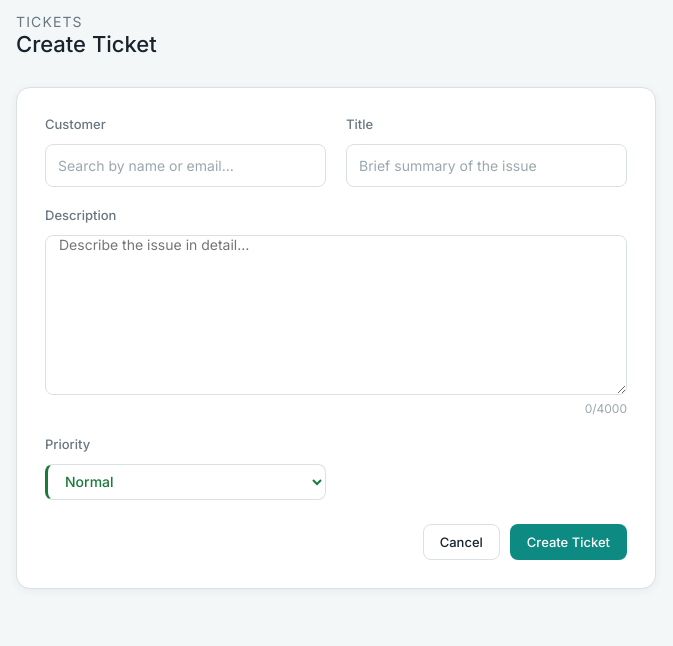
Scenario: TicketCreateView › shows the customer_not_found message on a 400 and stays on the form
Type "Alice Johnson" into the field with id "ticket-customer".
click(186, 165); type("Alice Johnson")  # box [45,144,326,187]
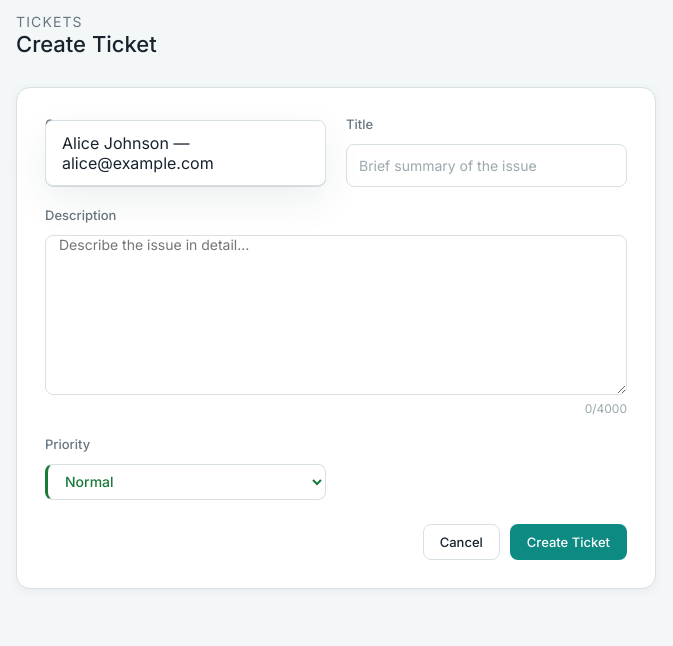
Click the list item "Alice Johnson — alice@example.com".
click(138, 153)  # box [62,133,214,173]
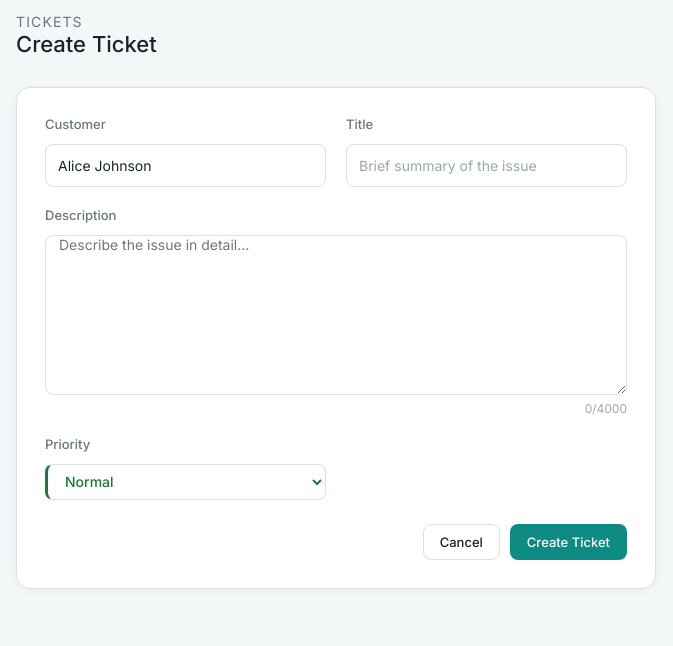
Type "Cannot log in" into the field with id "ticket-title".
click(486, 165); type("Cannot log in")  # box [346,144,627,187]
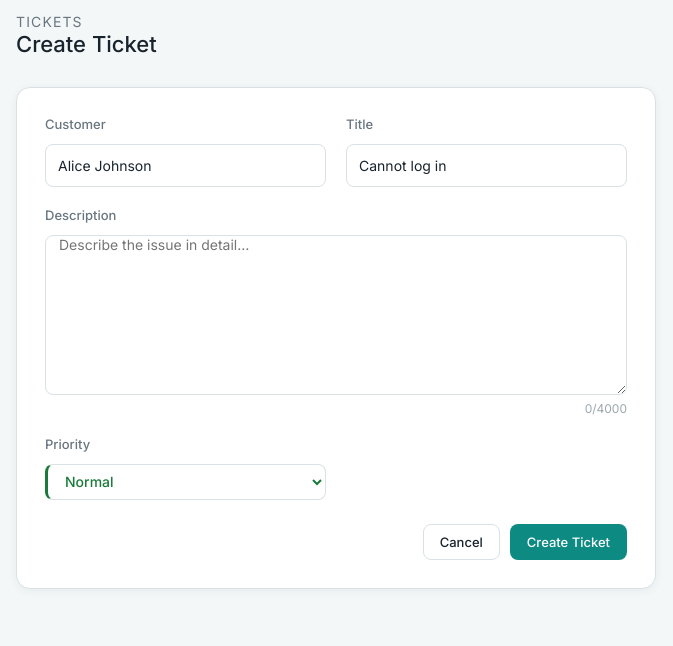
Type "Details" into the text box with id "ticket-description".
click(336, 315); type("Details")  # box [45,235,627,395]
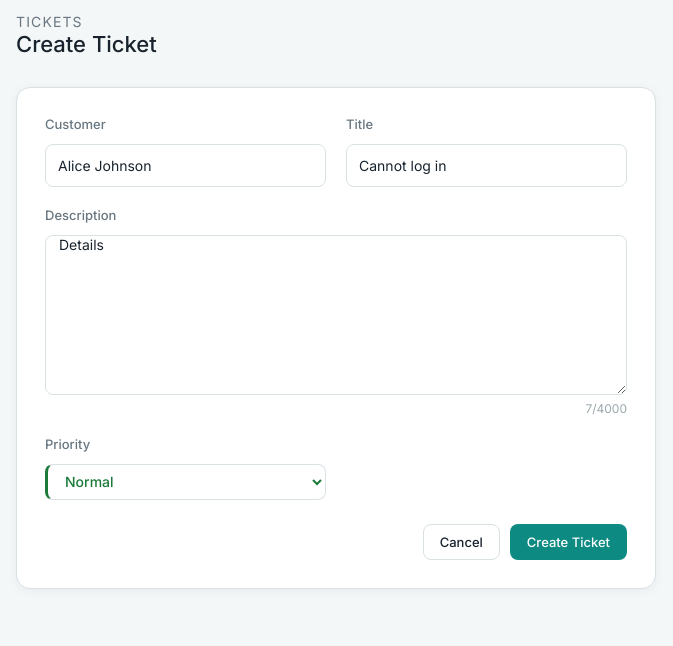
Submit the form
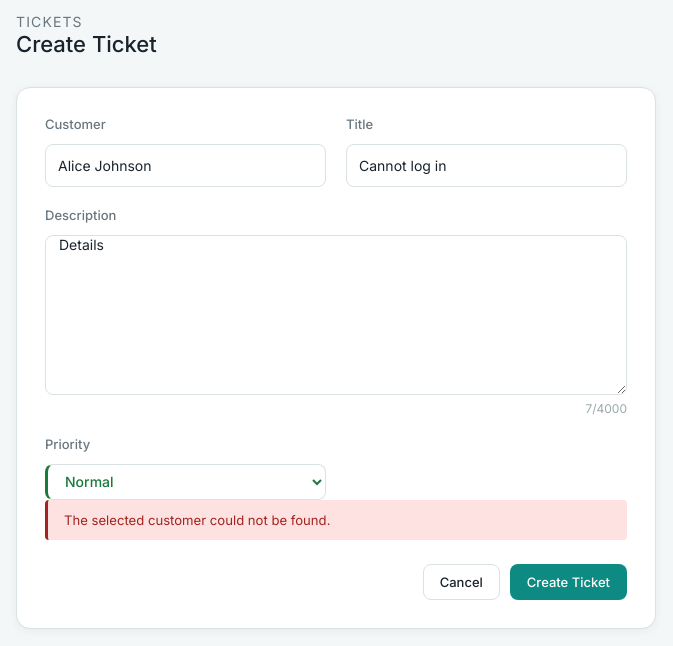
Result: the message "The selected customer could not be found." is shown at [45,500,627,540]
